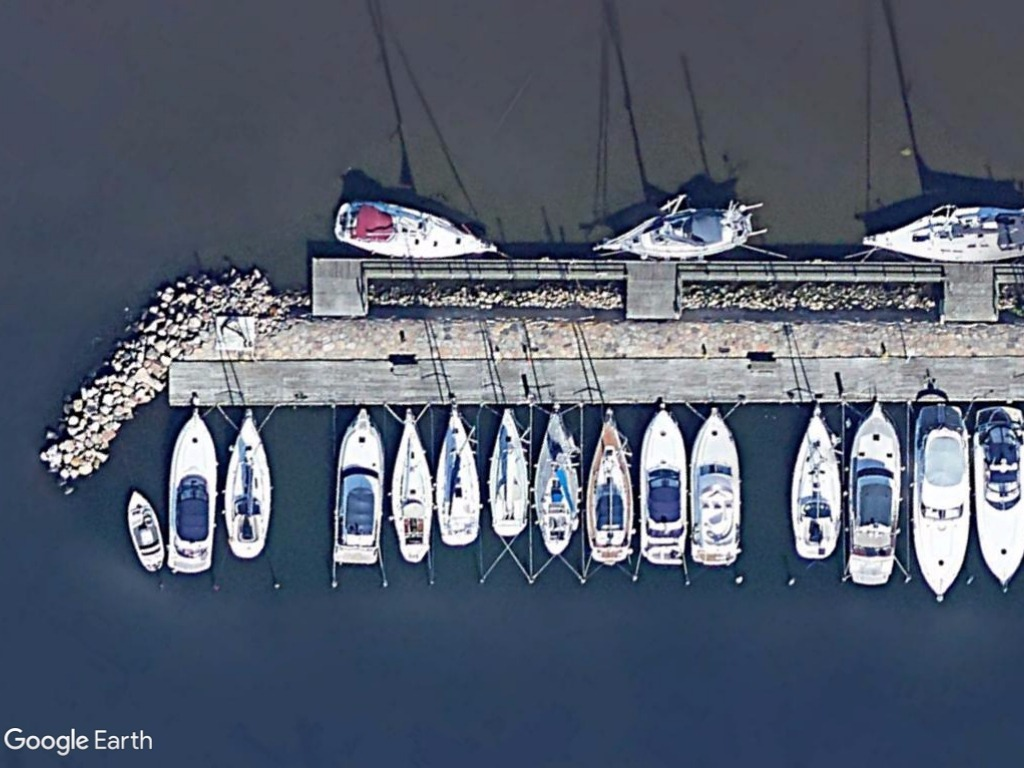boat: (909, 401, 972, 602), (838, 399, 904, 590), (329, 197, 504, 267), (153, 406, 221, 581), (856, 199, 1023, 270), (964, 396, 1023, 592), (326, 404, 388, 570), (590, 203, 758, 264), (685, 401, 744, 571), (577, 404, 637, 570), (217, 405, 277, 566), (633, 403, 690, 569), (785, 404, 842, 563), (384, 400, 436, 566), (529, 402, 582, 561), (429, 402, 479, 552), (481, 402, 529, 544), (124, 482, 168, 576)
